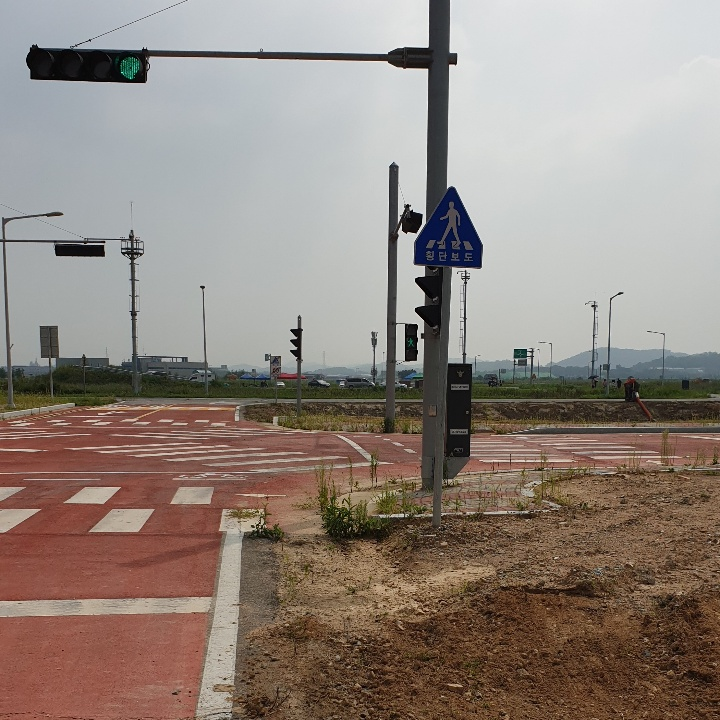cross: (432, 196, 468, 246)
